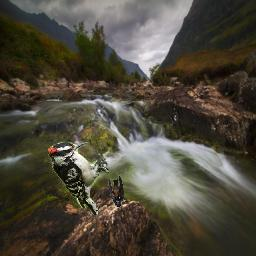Swallow: (108, 175, 124, 207)
Woodpecker: (49, 141, 110, 216)
